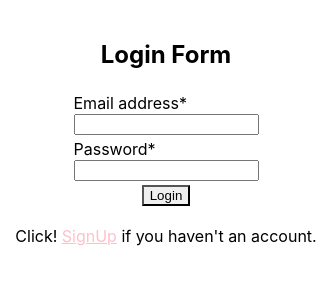
Test: LoginPage › displays error message for invalid email format
This screenshot has width=333, height=291.
Type "invalidemail" into the field with test id "email" at coordinates (166, 124), box 74,114 -> 258,135
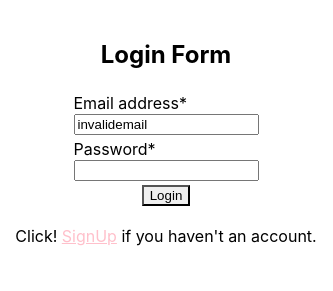
Click the button with test id "loginBtn" at coordinates (166, 195), box 142,185 -> 190,206
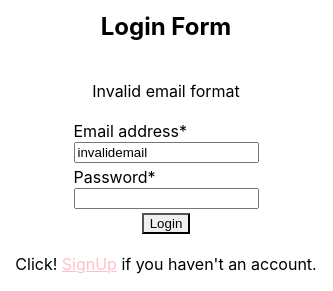
Now the text "Invalid email format" is shown, box 92,81 -> 240,101
